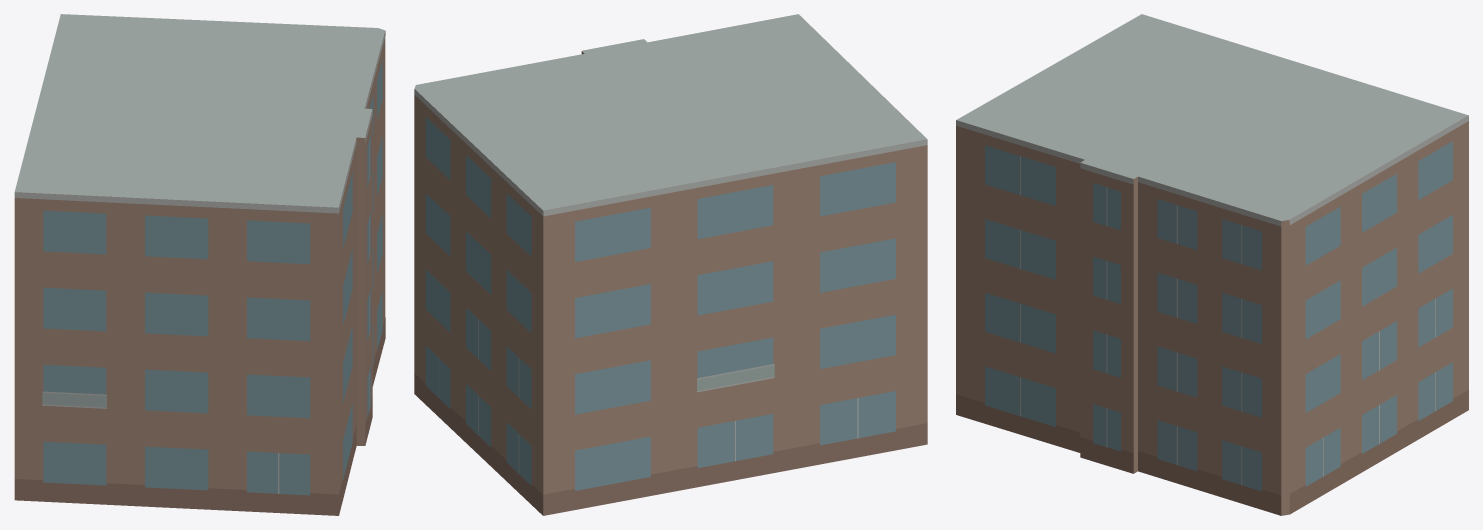
File: survey-upis-32656890.glb
3 views of the same model, side by side, from view 1: azimuth 30°, elevation 25°; view 2: azimuth 150°, elevation 25°; view 3: azimuth 270°, elevation 25° (orthographic). The views are drawn at different scales.
Visible parts, largest first — view 1: survey-upis-32656890.tmp; view 2: survey-upis-32656890.tmp; view 3: survey-upis-32656890.tmp.
Part boxes in pixels (left/top/right/bottom): survey-upis-32656890.tmp: left=14, top=14, right=385, bottom=515; survey-upis-32656890.tmp: left=414, top=14, right=927, bottom=515; survey-upis-32656890.tmp: left=956, top=14, right=1468, bottom=515.
Bounding box in the file's own units: 19.36 × 12.84 × 20.25.
